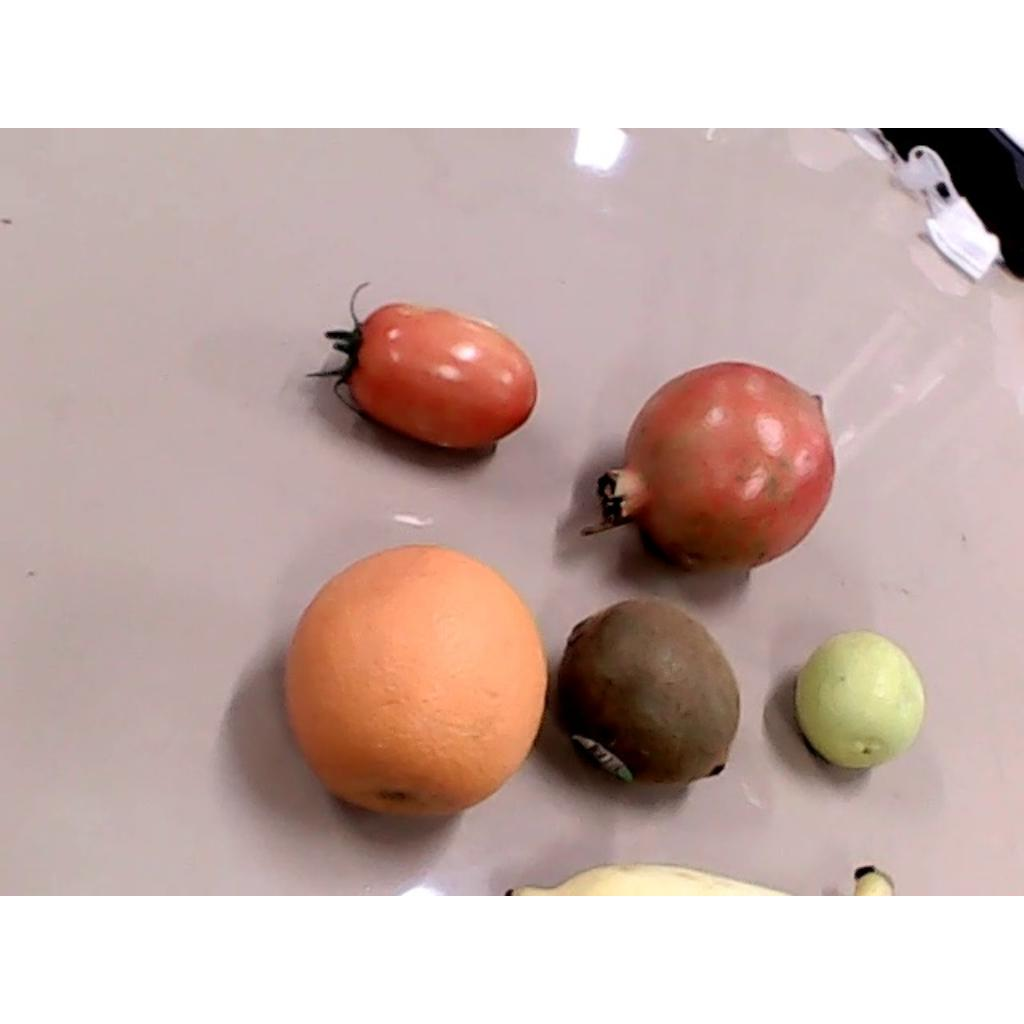kiwi: (557, 601, 740, 786)
lemon: (794, 631, 926, 770)
orange: (284, 546, 549, 819)
pomegranate: (582, 360, 836, 574)
tomato: (307, 282, 537, 449)
